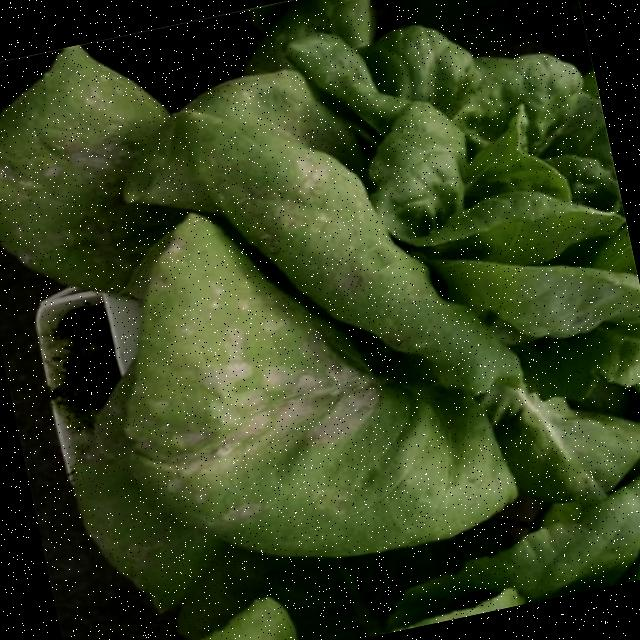Downy_mildew_on_lettuce: (76, 82, 490, 608)
